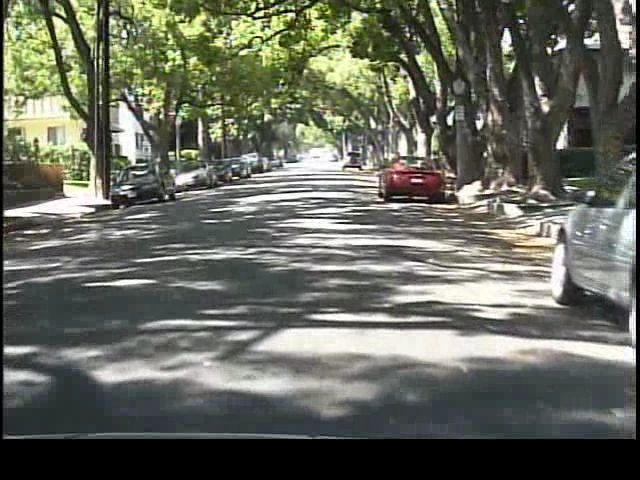person: (149, 146, 169, 187)
